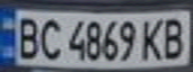4: (63, 16, 87, 61)
6: (100, 17, 121, 62)
8: (84, 17, 106, 62)
9: (118, 17, 139, 62)
B: (12, 14, 42, 61), (160, 13, 190, 60)
C: (36, 15, 63, 61)
K: (139, 16, 169, 61)
